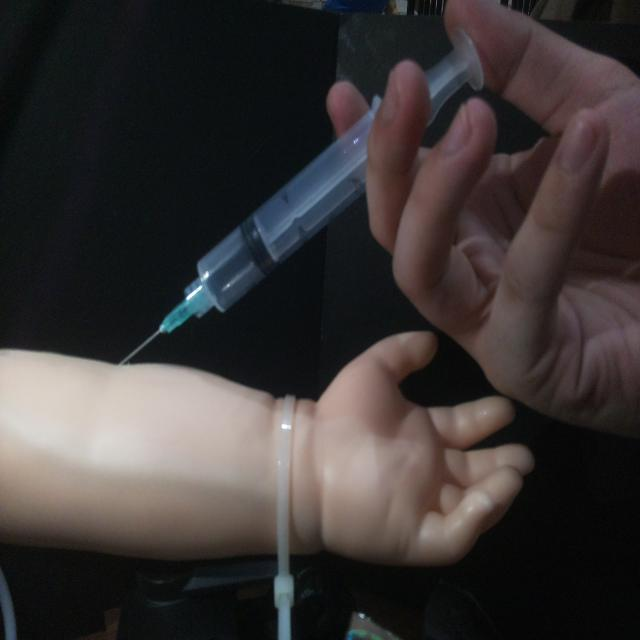30deg: (113, 26, 487, 368)
